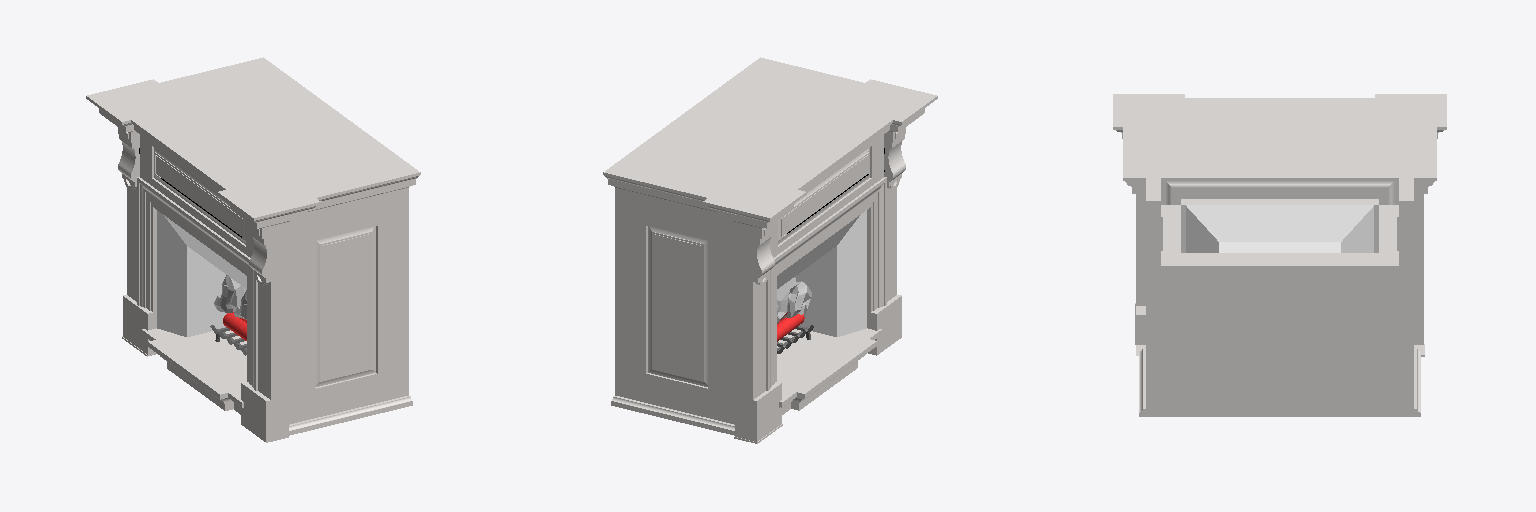
3 renders of one model, left to right at view 1: azimuth 30°, elevation 25°; view 2: azimuth 150°, elevation 25°; view 3: azimuth 270°, elevation 25°, orthographic.
Parts seen in each view (by area): view 1: polySurface72, sweep1; view 2: polySurface72, sweep1; view 3: polySurface72.
Part boxes in pixels (x1,y1,x2,y2): polySurface72: (86,57,420,442); sweep1: (214,275,246,319); polySurface72: (603,57,937,443); sweep1: (777,277,811,323); polySurface72: (1113,94,1446,416).
Size of the model in its own units: 3.61 by 4.81 by 6.08.
8 materials, 3 textured.